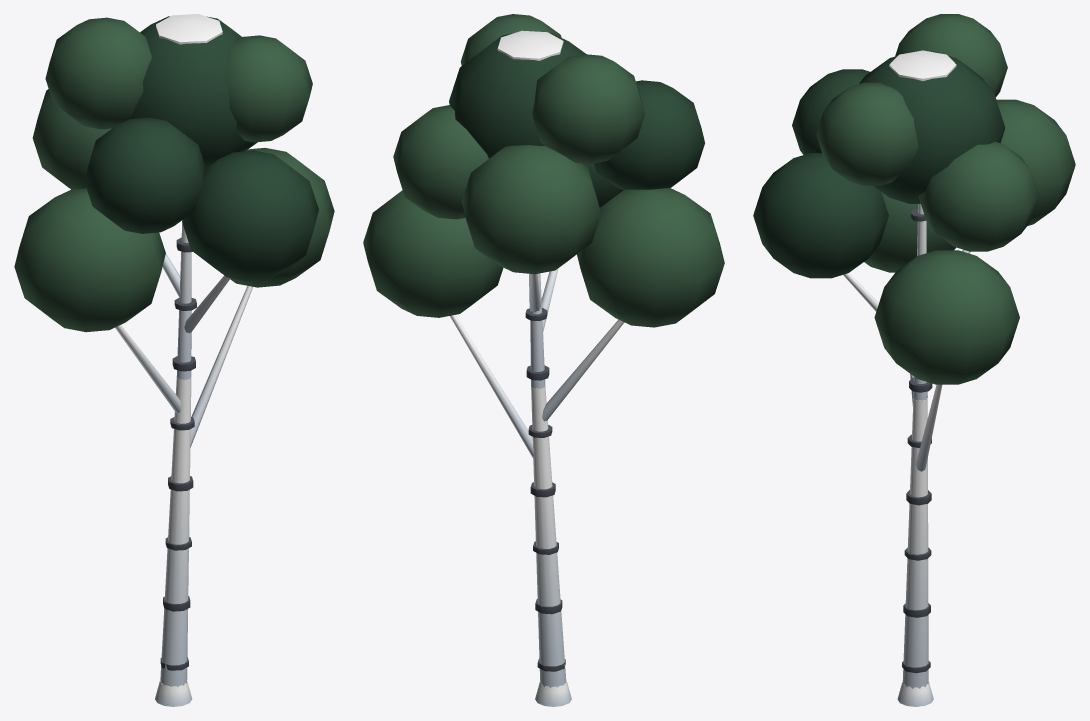
Rendered from ck_tree_birch.fbx.
3 views of the same model, side by side, from view 1: azimuth 30°, elevation 25°; view 2: azimuth 150°, elevation 25°; view 3: azimuth 270°, elevation 25° (orthographic). The views are drawn at different scales.
Parts seen in each view (by area): view 1: ck_tree_birch; view 2: ck_tree_birch; view 3: ck_tree_birch.
Boxes of the visible parts, x1=… form: ck_tree_birch: x1=14, y1=14, x2=334, y2=706; ck_tree_birch: x1=363, y1=14, x2=724, y2=706; ck_tree_birch: x1=753, y1=14, x2=1075, y2=706.
Bounding box in the file's own units: 487 × 980 × 437.
